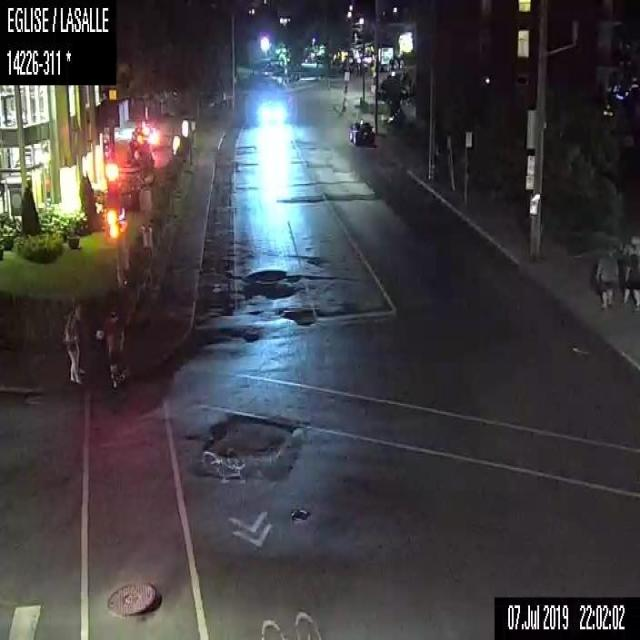pedestrian: (94, 304, 126, 389), (62, 300, 84, 383), (593, 244, 619, 312), (621, 243, 639, 309)
vehicle: (347, 120, 375, 144), (132, 123, 157, 146)
